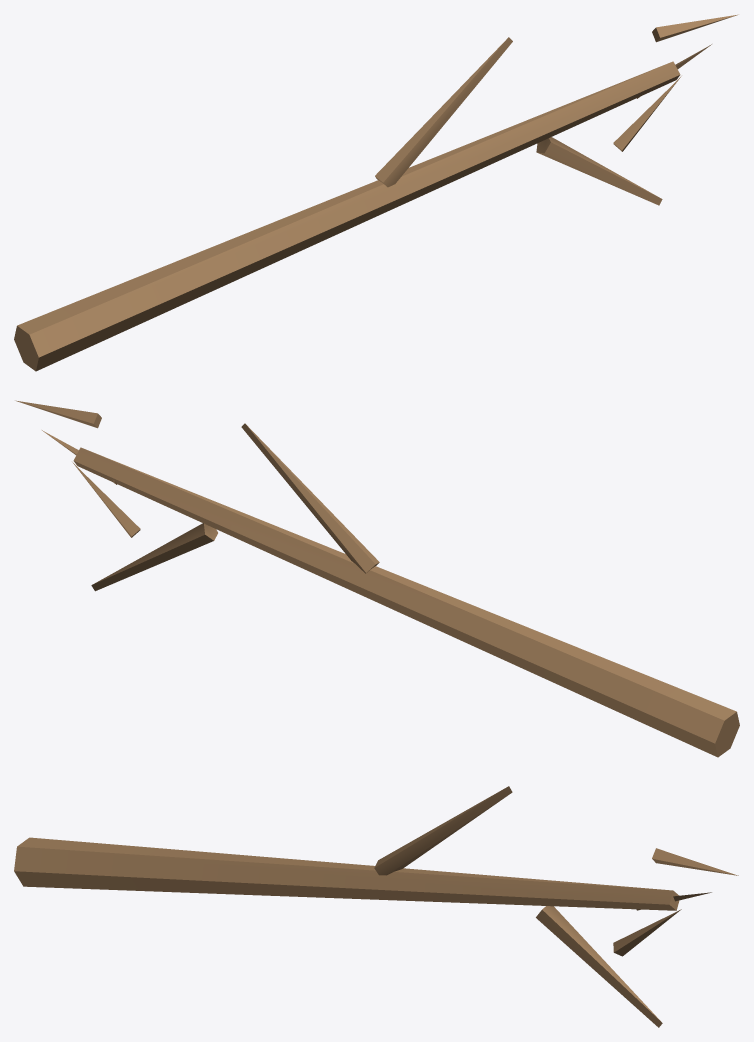
Rendered from snowman_part_twig_low.glb.
The picture shows the model from 3 angles, top to bottom: view 1: azimuth 30°, elevation 25°; view 2: azimuth 150°, elevation 25°; view 3: azimuth 330°, elevation 25°; orthographic projection.
Bounding box in the file's own units: 0.5986 × 0.17 × 0.036.
